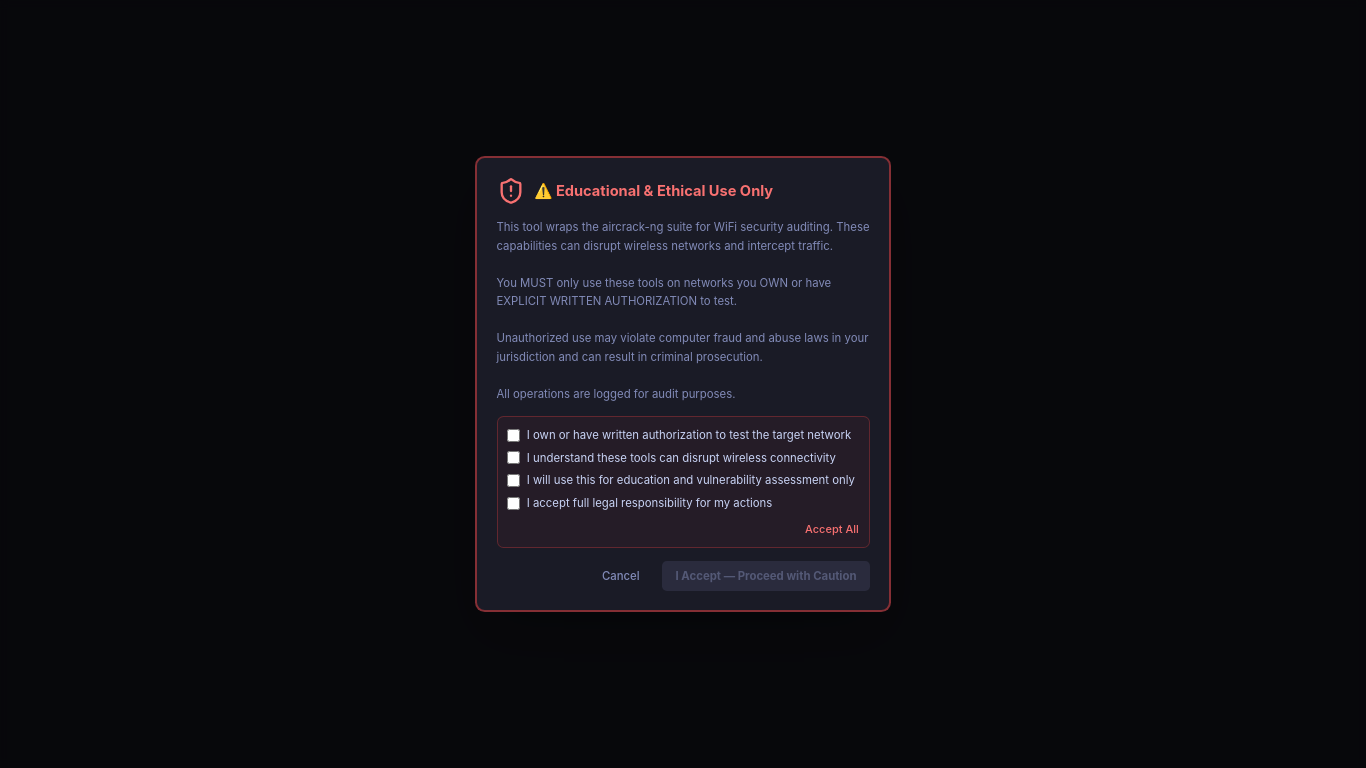
Scenario: AircrackPanel › Interfaces tab › lists interfaces and shows the no-interfaces empty state
The width and height of the screenshot is (1366, 768).
Expected: the heading "⚠️ Educational & Ethical Use Only" is shown, [534, 180, 773, 203]
Click the 1st checkbox: [514, 435] box [507, 428, 520, 442]
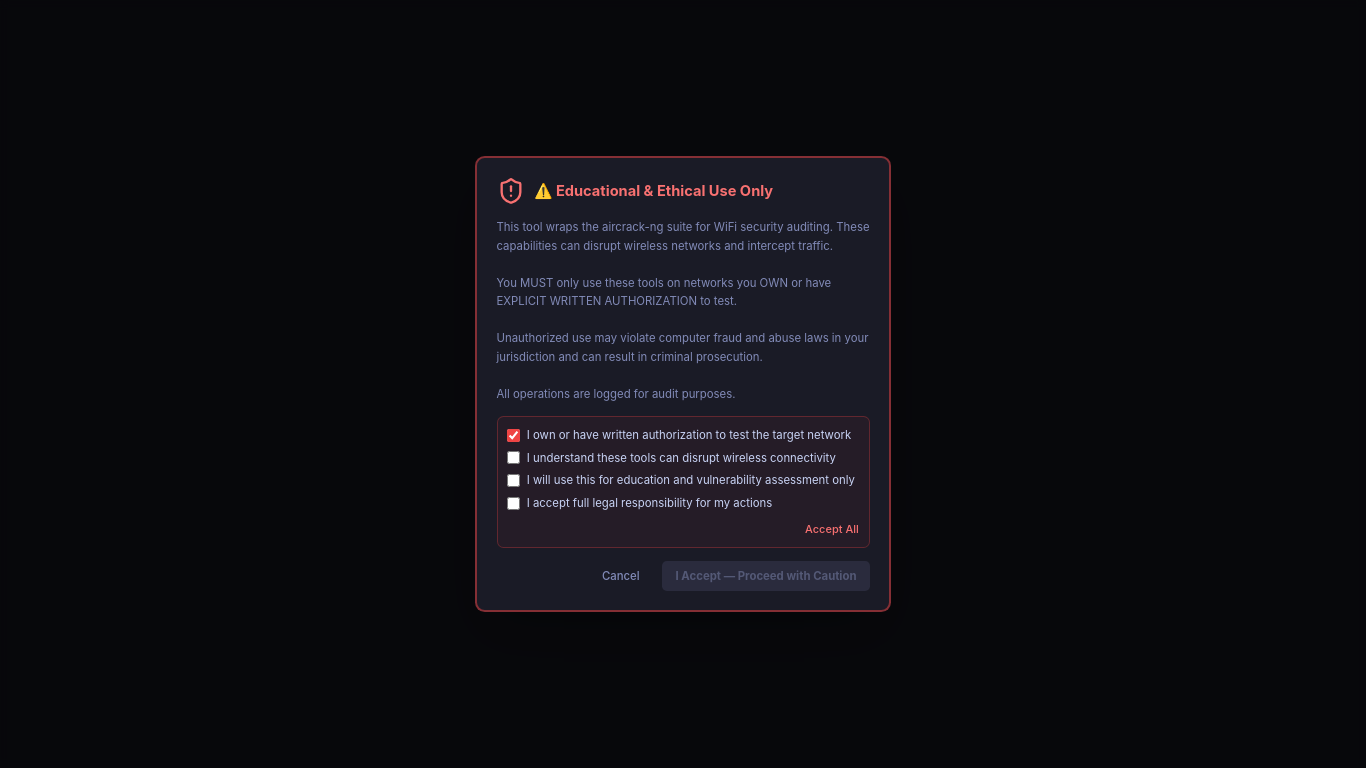
Click the checkbox labelled "I understand these tools can disrupt wireless connectivity": [514, 458] box [507, 451, 520, 464]
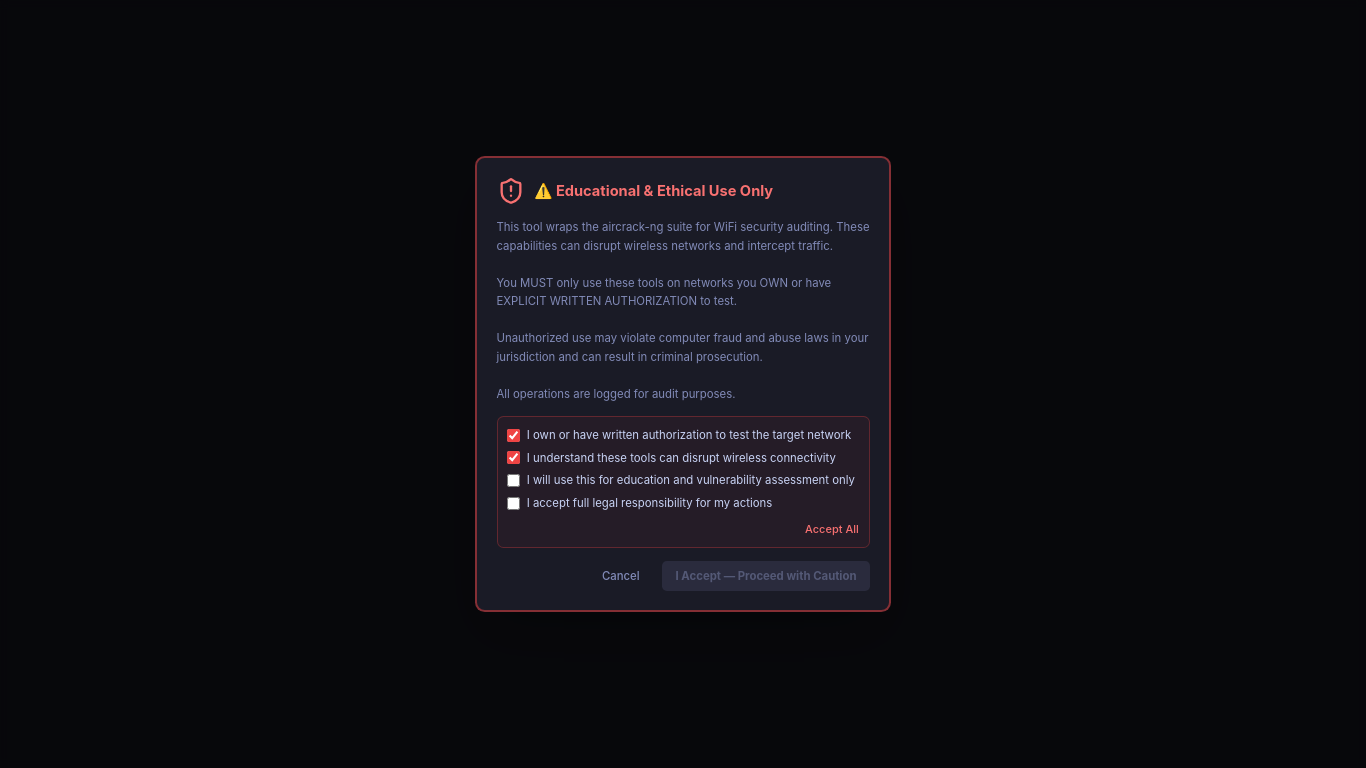
Click the 3rd checkbox: [514, 480] box [507, 474, 520, 487]
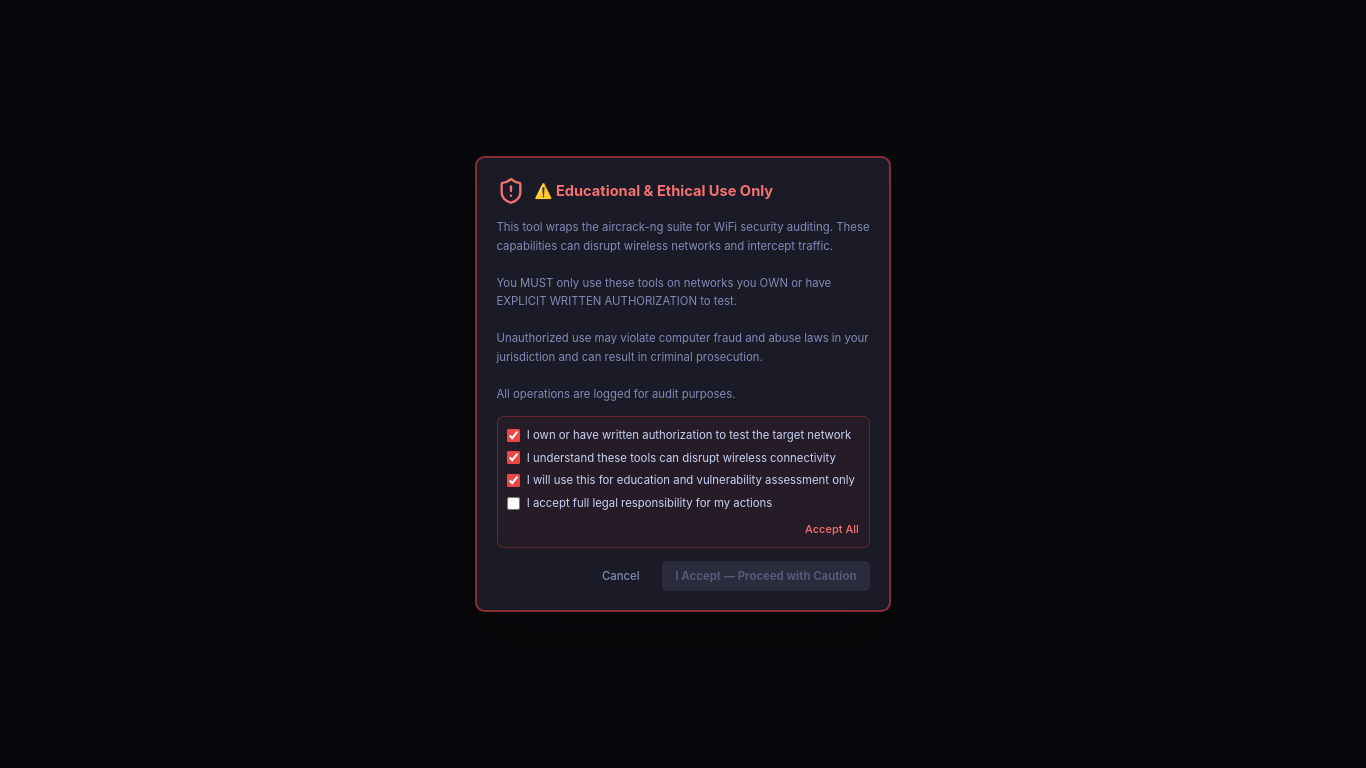
Click the checkbox labelled "I accept full legal responsibility for my actions": [514, 503] box [507, 497, 520, 510]
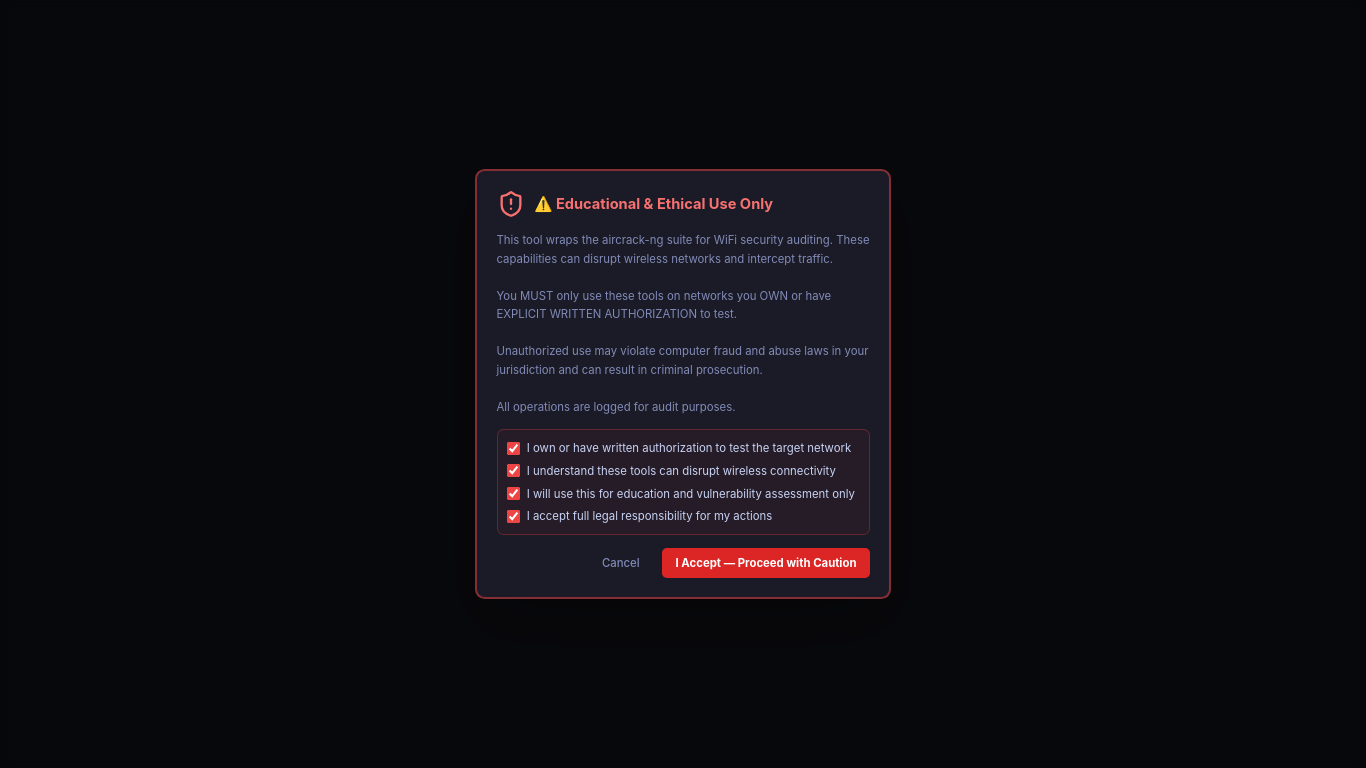
Click the button "I Accept — Proceed with Caution": [766, 563] box [662, 548, 870, 578]
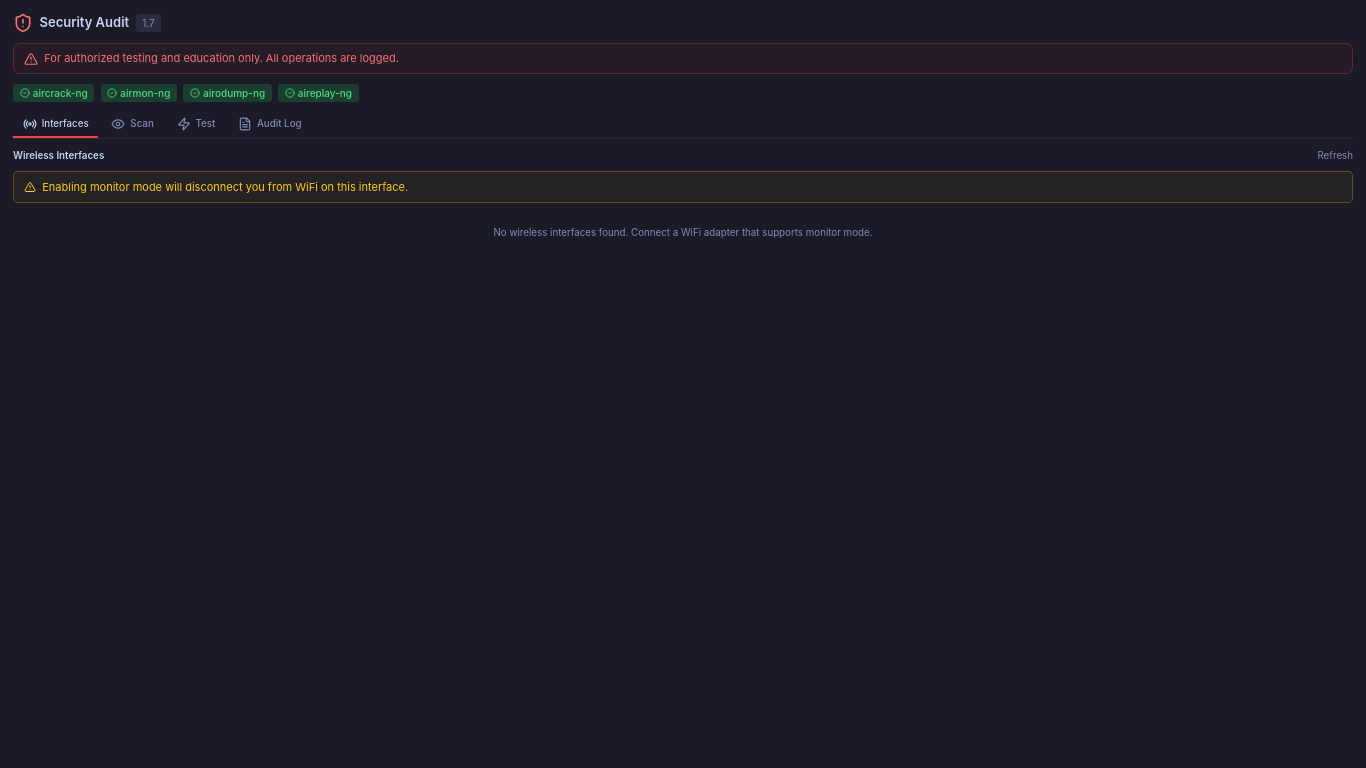
Now the text "No wireless interfaces found" is shown, box [494, 226, 872, 238]
